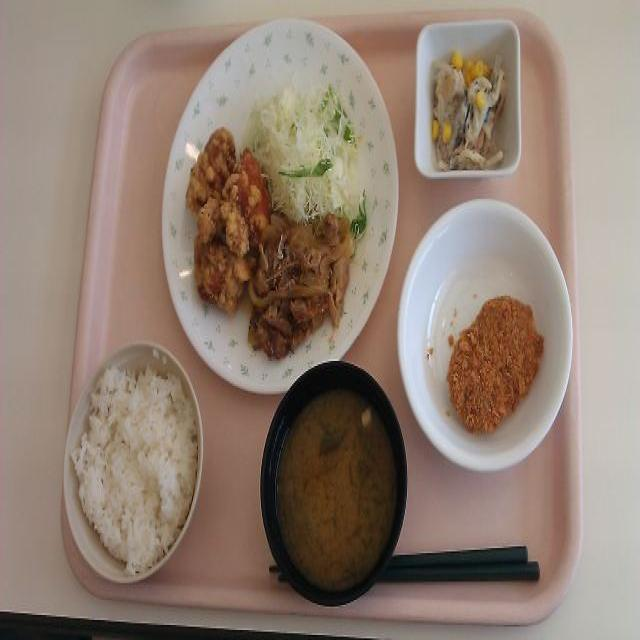Rice: (81, 370, 195, 566)
